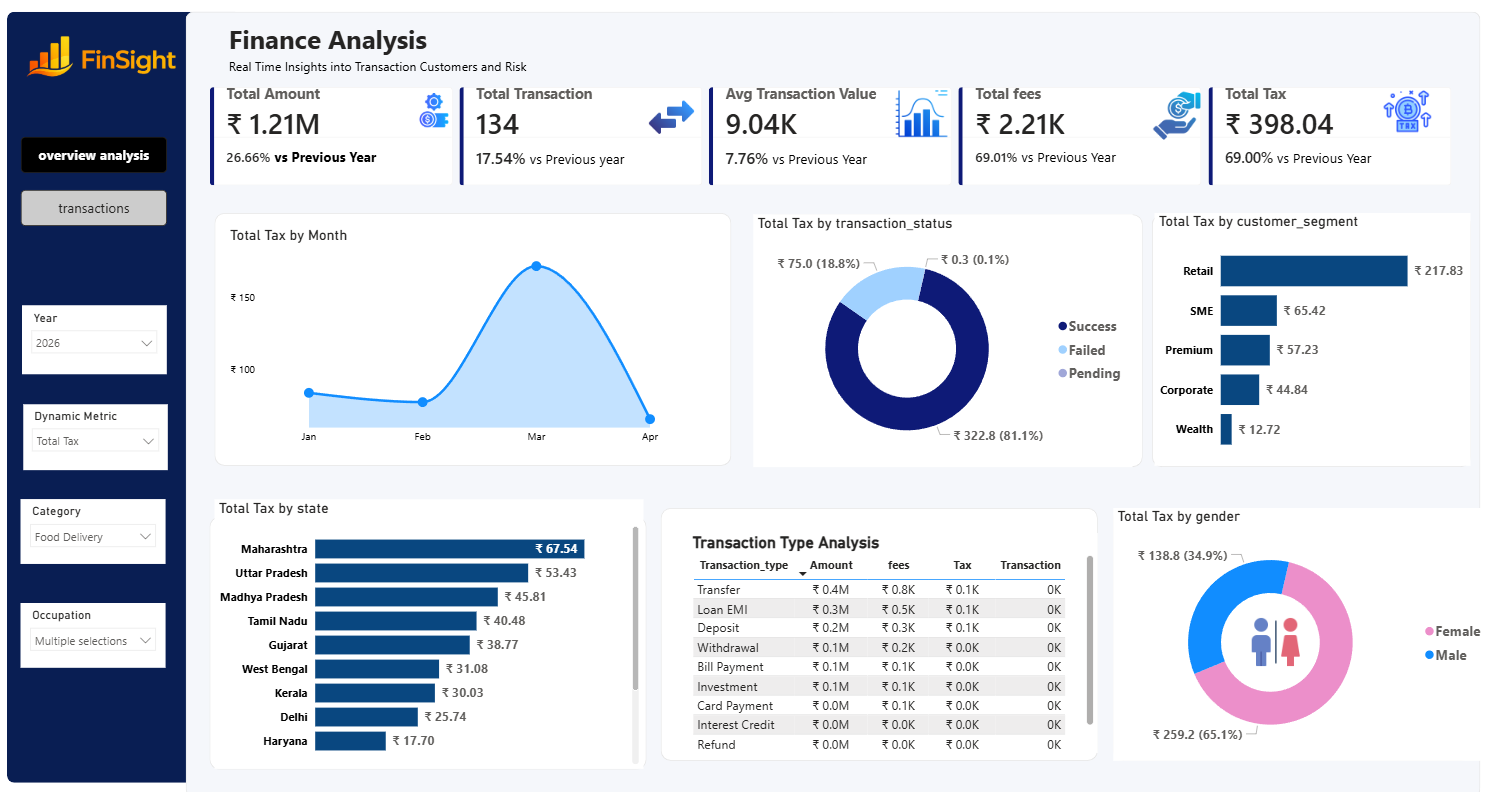

This screenshot's page, from the dashboard's own definition file:
{"tool":"powerbi","page":{"name":"overview analysis","canvas":[1800,950],"ordinal":0},"visuals":[{"type":"shape","box":[11.4,16.4,279.6,917.3],"z":0},{"type":"shape","box":[224,16.4,1540.3,933.7],"z":1000},{"type":"image","box":[27.8,26.2,196.2,86.7],"z":2000},{"type":"cardVisual","fields":{"Data":["finance_transactions.Dashboard title"]},"box":[258.4,6.5,397.3,106.3],"z":3000},{"type":"slicer","fields":{"Values":["Calender Table.Year"]},"box":[29.4,366.3,171.7,81.8],"z":4000},{"type":"cardVisual","fields":{"Data":["finance_transactions.Total Amount","finance_transactions.Total Transaction","finance_transactions.Avg Transaction Value","finance_transactions.Total fees","finance_transactions.Total Tax"]},"box":[246.9,99.7,1492.9,129.2],"z":5000},{"type":"image","box":[492.2,112.8,55.6,40.9],"z":6000},{"type":"image","box":[768.5,112.8,67,57.2],"z":7000},{"type":"image","box":[1373.6,106.3,58.9,68.7],"z":8000},{"type":"image","box":[1064.5,106.3,70.3,63.8],"z":9000},{"type":"image","box":[1638.4,101.4,78.5,67],"z":10000},{"type":"shape","box":[258.4,255.1,614.8,300.9],"z":11000},{"type":"slicer","fields":{"Values":["Dynamic Metric.Dynamic Metric"]},"box":[31.1,484,171.7,78.5],"z":12000},{"type":"areaChart","fields":{"Y":["finance_transactions.Total Tax"],"Category":["Calender Table.Month"]},"box":[271.4,271.4,564.1,268.2],"z":13000},{"type":"shape","box":[912.4,256.7,450,300.9],"z":14000},{"type":"donutChart","fields":{"Y":["finance_transactions.Total Tax"],"Category":["finance_transactions.transaction_status"]},"box":[899.3,256.7,451.3,300.9],"z":15000},{"type":"shape","box":[1373.6,256.7,379.4,300.9],"z":16000},{"type":"barChart","fields":{"Y":["finance_transactions.Total Tax"],"Category":["customers.customer_segment"]},"box":[1376.8,255.1,376.1,300.9],"z":17000},{"type":"shape","box":[253.5,616.5,520,300.9],"z":18000},{"type":"barChart","fields":{"Y":["finance_transactions.Total Tax"],"Category":["customers.state"]},"box":[258.4,596.8,510.2,320.5],"z":19000},{"type":"shape","box":[789.8,606.7,520,300.9],"z":20000},{"type":"tableEx","title":"Transaction Type Analysis","fields":{"Values":["finance_transactions.transaction_type","finance_transactions.Total Amount","finance_transactions.Total fees","finance_transactions.Total Tax","finance_transactions.Total Transaction"]},"box":[822.5,636.1,487.3,261.6],"z":21000},{"type":"shape","box":[1327.8,606.7,425.1,300.9],"z":22000},{"type":"donutChart","fields":{"Y":["finance_transactions.Total Tax"],"Category":["customers.gender"]},"box":[1327.8,606.7,451.3,300.9],"z":23000},{"type":"image","box":[1488,730.9,65.4,71.9],"z":24000},{"type":"slicer","fields":{"Values":["finance_transactions.merchant_category"]},"box":[27.8,596.8,171.7,76.9],"z":25000},{"type":"slicer","fields":{"Values":["customers.occupation"]},"box":[27.8,719.5,171.7,76.9],"z":26000},{"type":"pageNavigator","box":[27.8,165.2,175,106.3],"z":27000}]}

Visuals, with their boxes in screenshot pixels (x1, y1, x2, y2), scaled from the page's 1800x950 canvas onto the 1505x792 screenshot:
shape: [10, 14, 243, 778]
shape: [187, 14, 1475, 791]
image: [23, 22, 187, 94]
cardVisual - finance_transactions.Dashboard title: [216, 5, 548, 94]
slicer - Calender Table.Year: [25, 305, 168, 374]
cardVisual - finance_transactions.Total Amount x finance_transactions.Total Transaction: [206, 83, 1455, 191]
image: [412, 94, 458, 128]
image: [643, 94, 699, 142]
image: [1148, 89, 1198, 146]
image: [890, 89, 949, 142]
image: [1370, 85, 1436, 140]
shape: [216, 213, 730, 464]
slicer - Dynamic Metric.Dynamic Metric: [26, 404, 170, 469]
areaChart - finance_transactions.Total Tax x Calender Table.Month: [227, 226, 699, 450]
shape: [763, 214, 1139, 465]
donutChart - finance_transactions.Total Tax x finance_transactions.transaction_status: [752, 214, 1129, 465]
shape: [1148, 214, 1466, 465]
barChart - finance_transactions.Total Tax x customers.customer_segment: [1151, 213, 1466, 464]
shape: [212, 514, 647, 765]
barChart - finance_transactions.Total Tax x customers.state: [216, 498, 643, 765]
shape: [660, 506, 1095, 757]
"Transaction Type Analysis" tableEx: [688, 530, 1095, 748]
shape: [1110, 506, 1466, 757]
donutChart - finance_transactions.Total Tax x customers.gender: [1110, 506, 1488, 757]
image: [1244, 609, 1299, 669]
slicer - finance_transactions.merchant_category: [23, 498, 167, 562]
slicer - customers.occupation: [23, 600, 167, 664]
pageNavigator: [23, 138, 170, 226]
